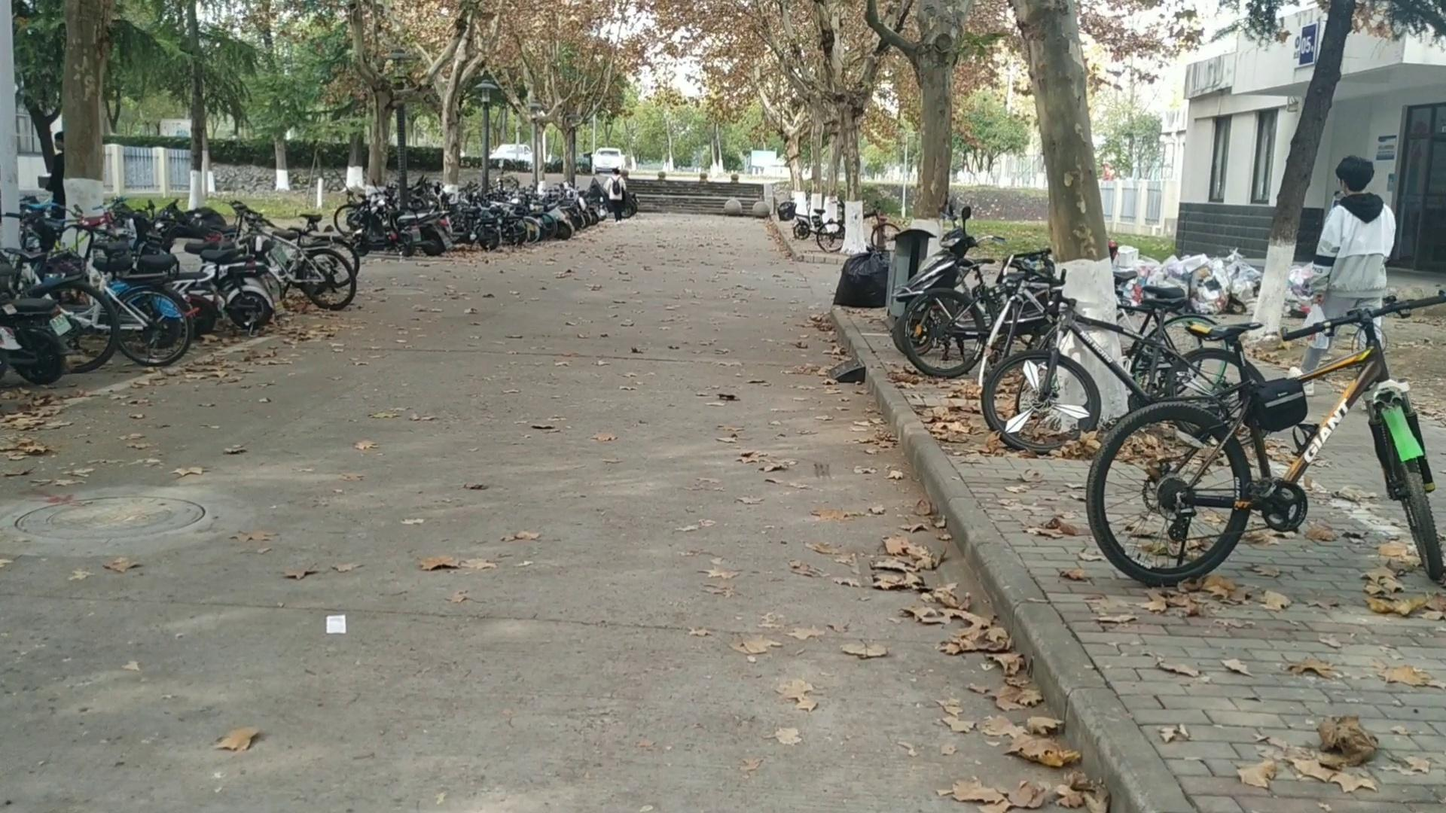car: (590, 147, 631, 174), (490, 143, 535, 166)
